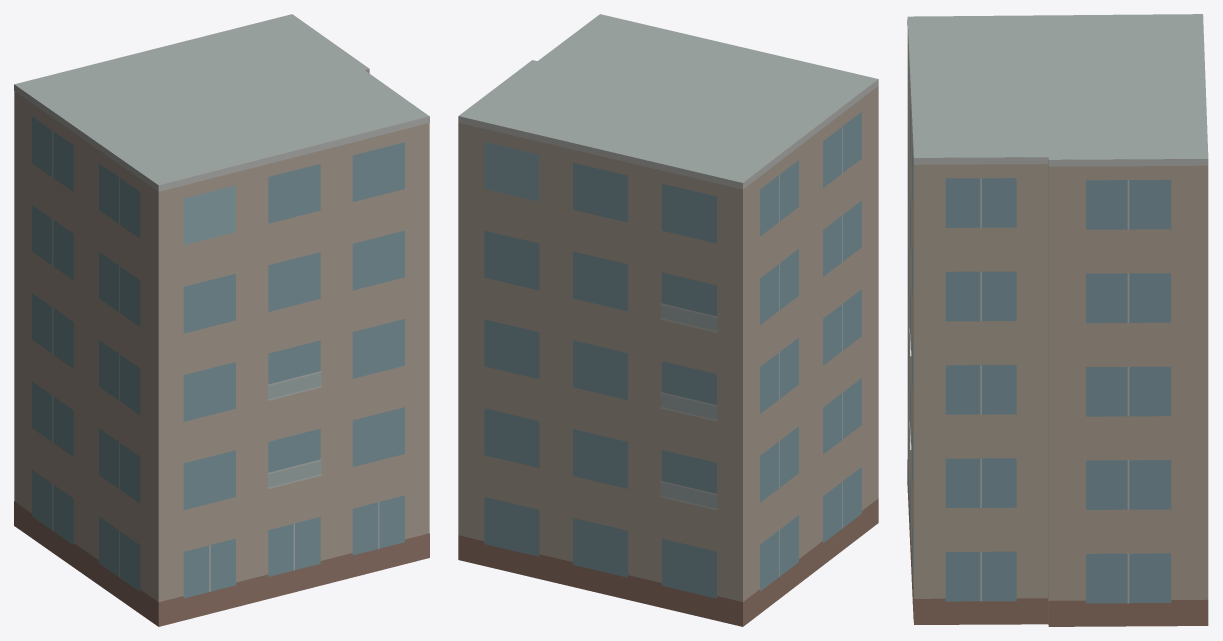
The model's file is survey-upis-32999080.glb.
3 views of the same model, side by side, from view 1: azimuth 30°, elevation 25°; view 2: azimuth 150°, elevation 25°; view 3: azimuth 270°, elevation 25° (orthographic). The views are drawn at different scales.
Visible parts, largest first — view 1: survey-upis-32999080.tmp; view 2: survey-upis-32999080.tmp; view 3: survey-upis-32999080.tmp.
Part boxes in pixels (left/top/right/bottom): survey-upis-32999080.tmp: left=14, top=14, right=429, bottom=626; survey-upis-32999080.tmp: left=458, top=14, right=878, bottom=626; survey-upis-32999080.tmp: left=907, top=14, right=1208, bottom=626.
Bounding box in the file's own units: 11.08 × 16.52 × 9.66.
